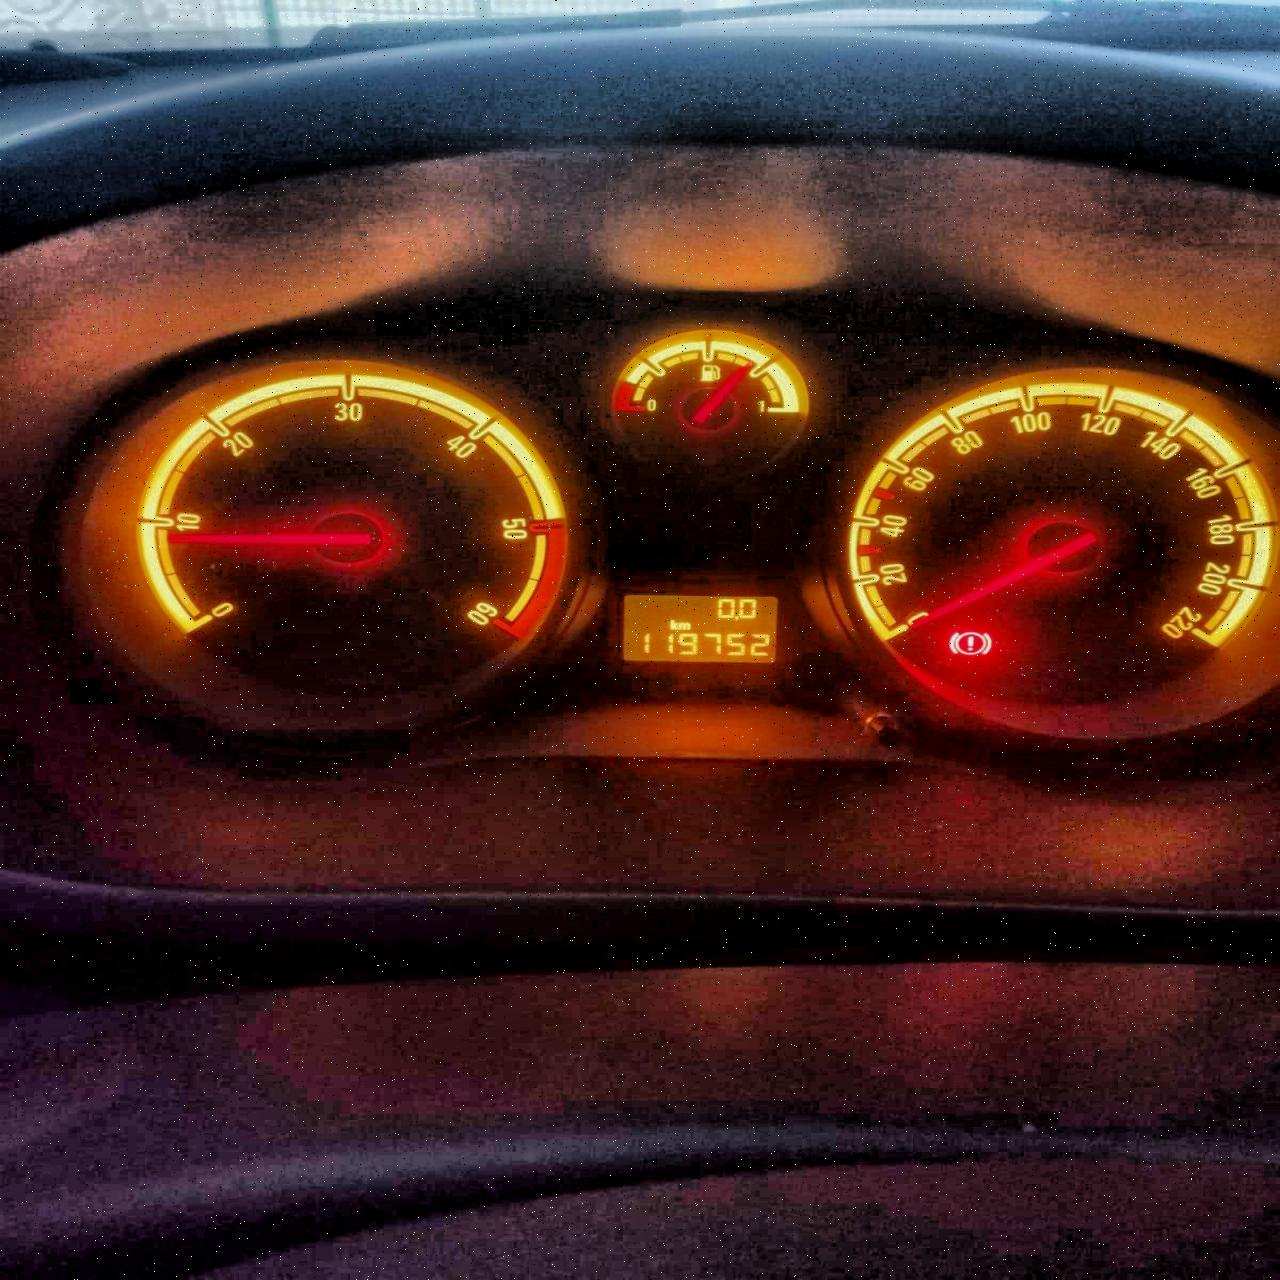-: (734, 615, 738, 621)
0: (716, 598, 735, 618), (738, 598, 756, 619)
1: (666, 633, 674, 654), (642, 632, 649, 653)
2: (749, 633, 770, 655)
5: (726, 633, 744, 655)
7: (702, 632, 721, 654)
9: (676, 632, 697, 654)
X: (678, 621, 690, 629), (668, 619, 678, 629)
odometer: (619, 592, 779, 666)
